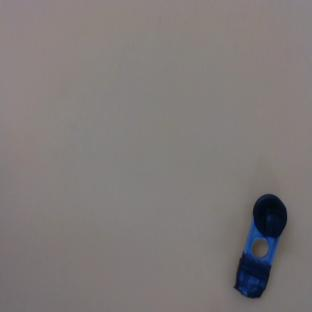part_1_bad: (227, 191, 293, 301)
